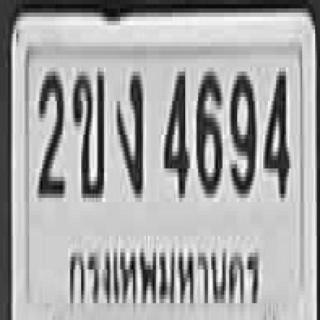A02: (72, 67, 102, 194)
A07: (115, 67, 141, 194)
N02: (36, 67, 62, 194)
N04: (162, 67, 188, 194), (263, 67, 287, 194)
N06: (195, 67, 221, 194)
N09: (229, 67, 255, 194)
P04: (66, 237, 264, 316)
